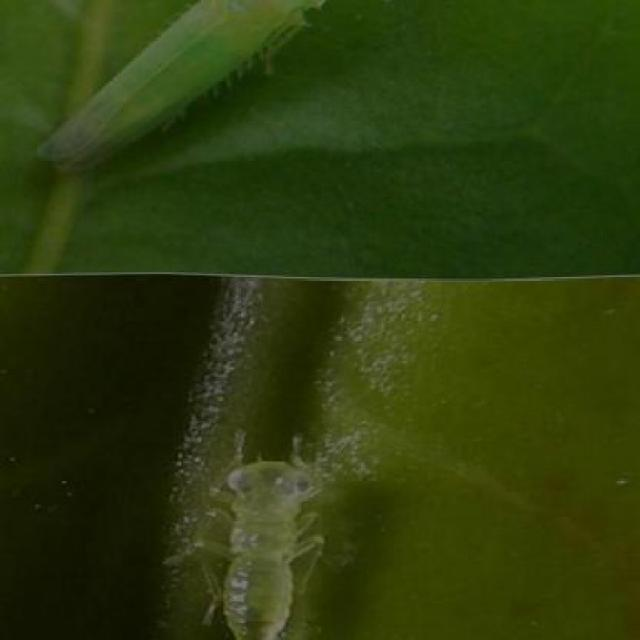green-leafhopper: (37, 0, 314, 163), (178, 441, 384, 640)
